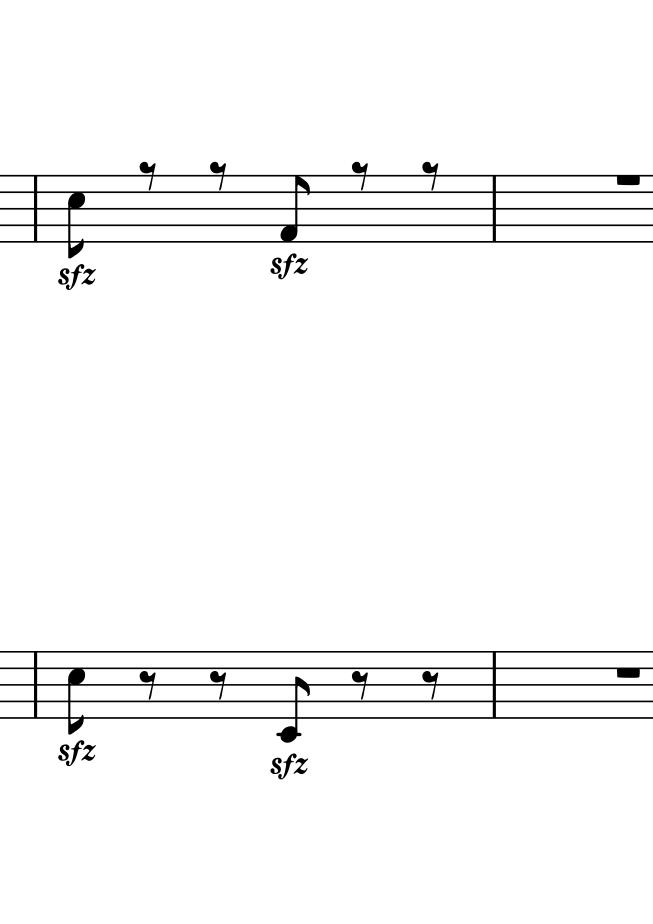8_-2: (275, 648, 311, 745)
8_1: (279, 173, 311, 241)
8_3: (66, 648, 91, 734)
8_5: (66, 174, 88, 258)
Rests1: (611, 664, 643, 682), (611, 173, 647, 188)
Rests8: (419, 159, 445, 196), (205, 668, 233, 699), (134, 670, 162, 699), (420, 669, 442, 702), (351, 162, 376, 191), (138, 158, 159, 192), (352, 670, 373, 702), (210, 160, 228, 192)
Single_barline: (27, 175, 43, 241), (487, 650, 502, 716), (28, 650, 42, 718), (487, 176, 501, 242)
sfz: (56, 261, 97, 291), (267, 252, 308, 282), (268, 751, 309, 781), (57, 738, 98, 768)
